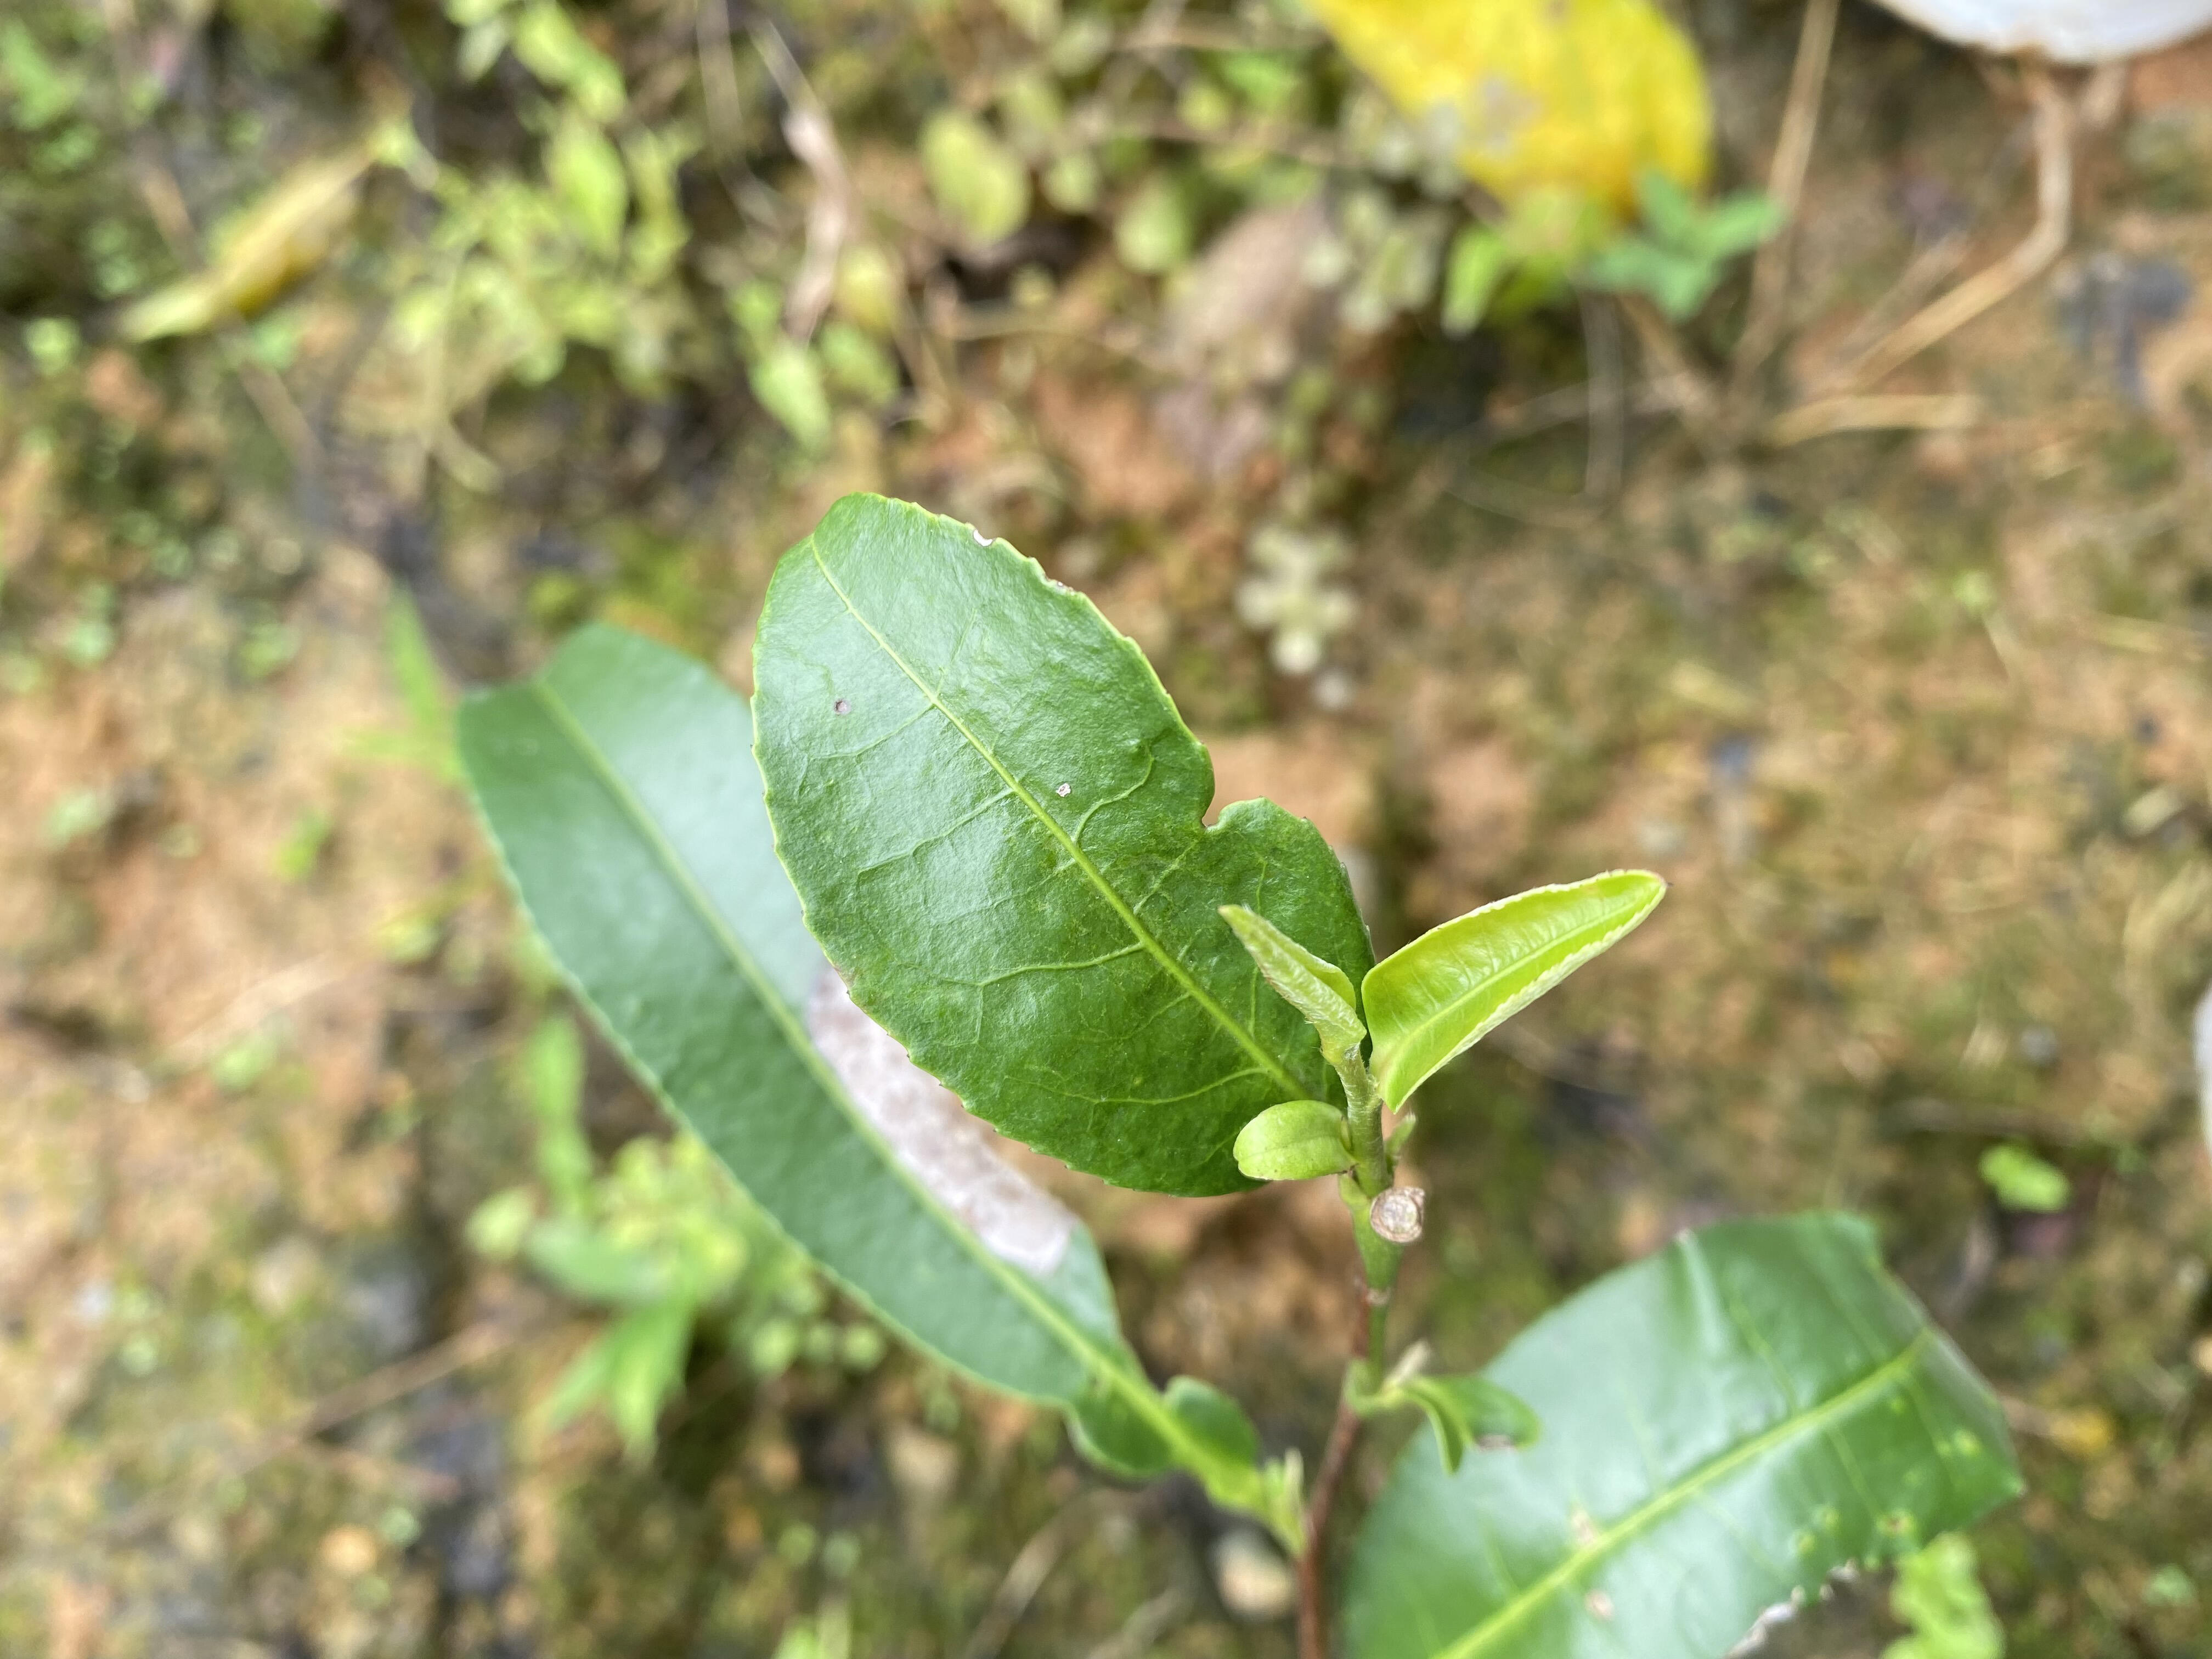healthy: (1360, 871, 1669, 1115)
tanju_high: (460, 617, 1122, 1410)
